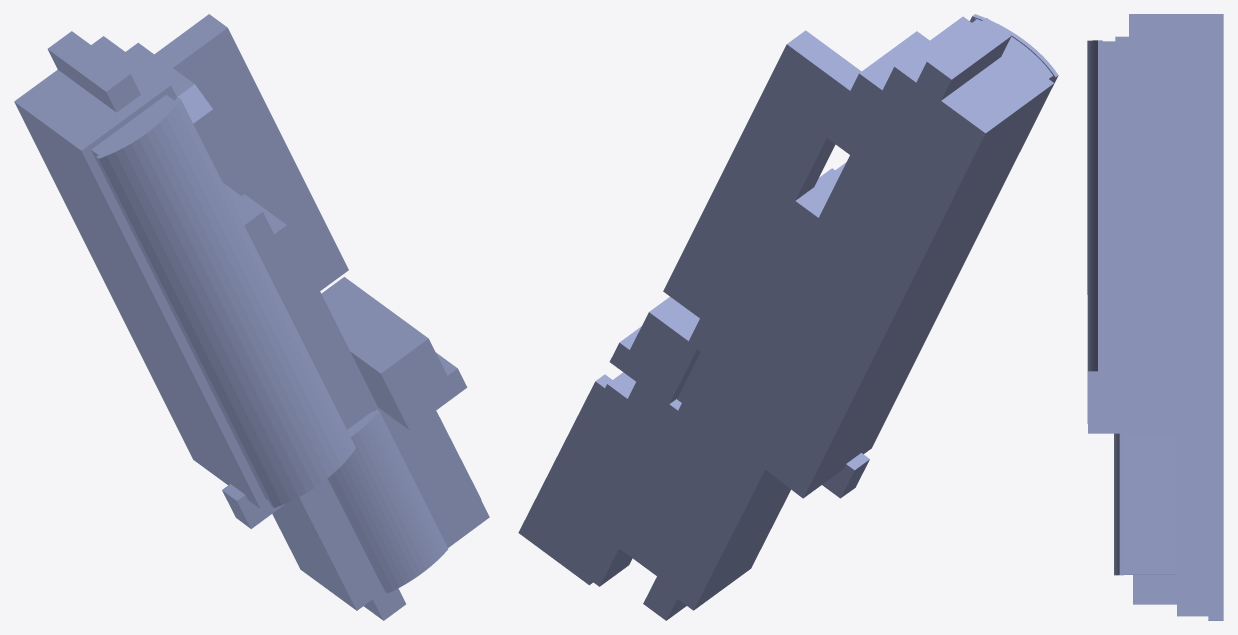
The picture shows the model from 3 angles, left to right: view 1: azimuth 30°, elevation 25°; view 2: azimuth 150°, elevation 25°; view 3: azimuth 270°, elevation 25°; orthographic projection. The views are drawn at different scales.
Visible parts, largest first — view 1: E3; view 2: E3; view 3: E3.
Boxes of the visible parts, left/top/right/bottom form: E3: left=14, top=14, right=489, bottom=620; E3: left=518, top=14, right=1058, bottom=620; E3: left=1087, top=14, right=1223, bottom=620.
Bounding box in the file's own units: 89.31 × 114 × 28.61.
